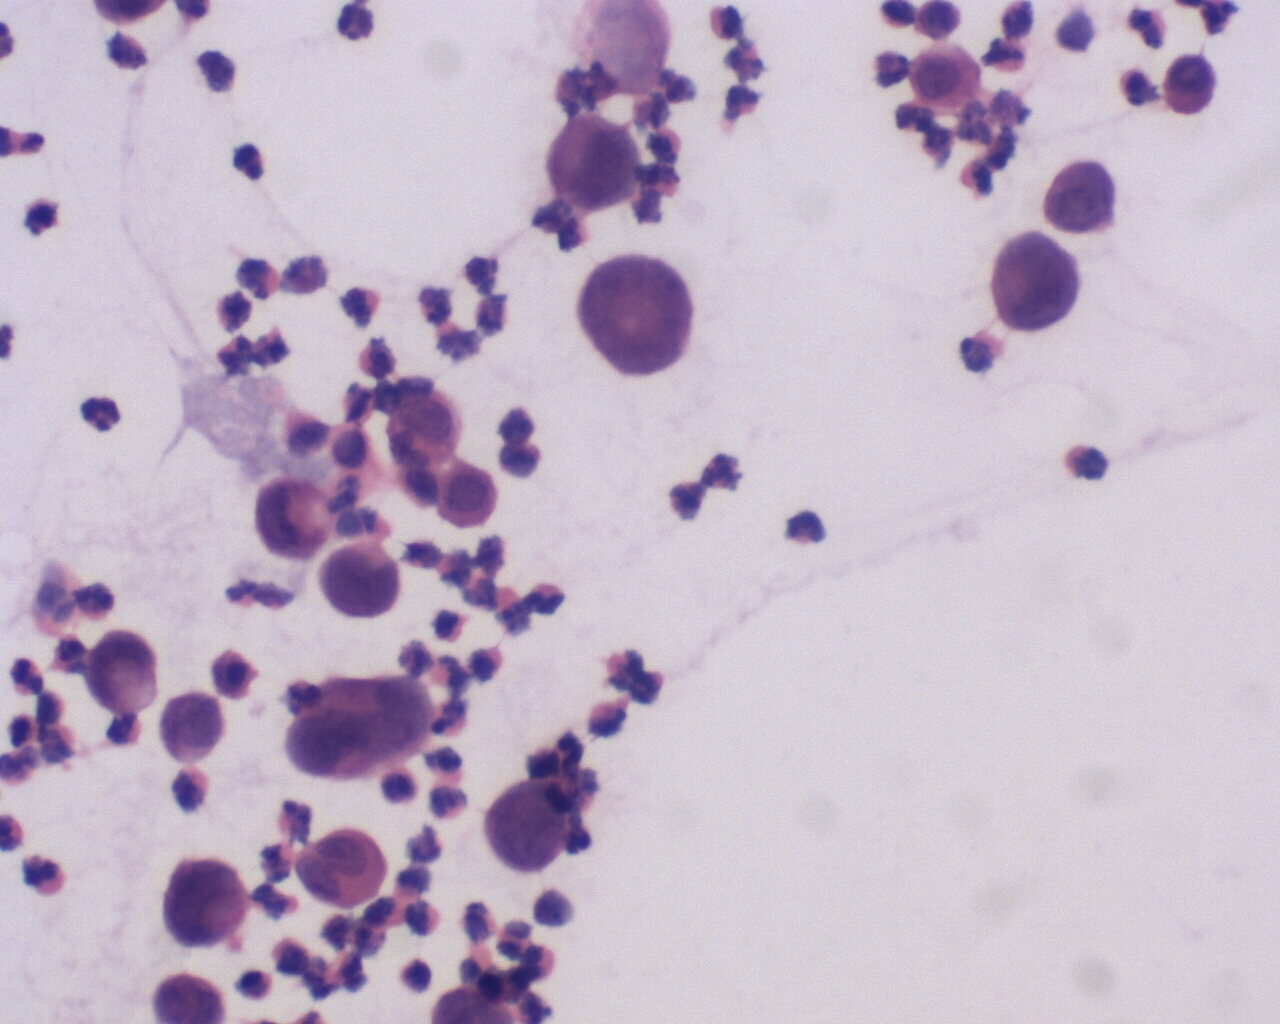ab: (573, 245, 698, 381), (541, 106, 647, 215), (985, 225, 1085, 335), (480, 779, 579, 877), (157, 854, 251, 947), (253, 475, 341, 569), (313, 544, 403, 630), (1037, 158, 1126, 238), (393, 387, 467, 462), (160, 692, 228, 763), (1156, 50, 1221, 117)
meso: (901, 38, 990, 119), (437, 457, 503, 530)
neutro: (80, 388, 131, 439), (8, 652, 55, 703), (529, 580, 566, 616)
